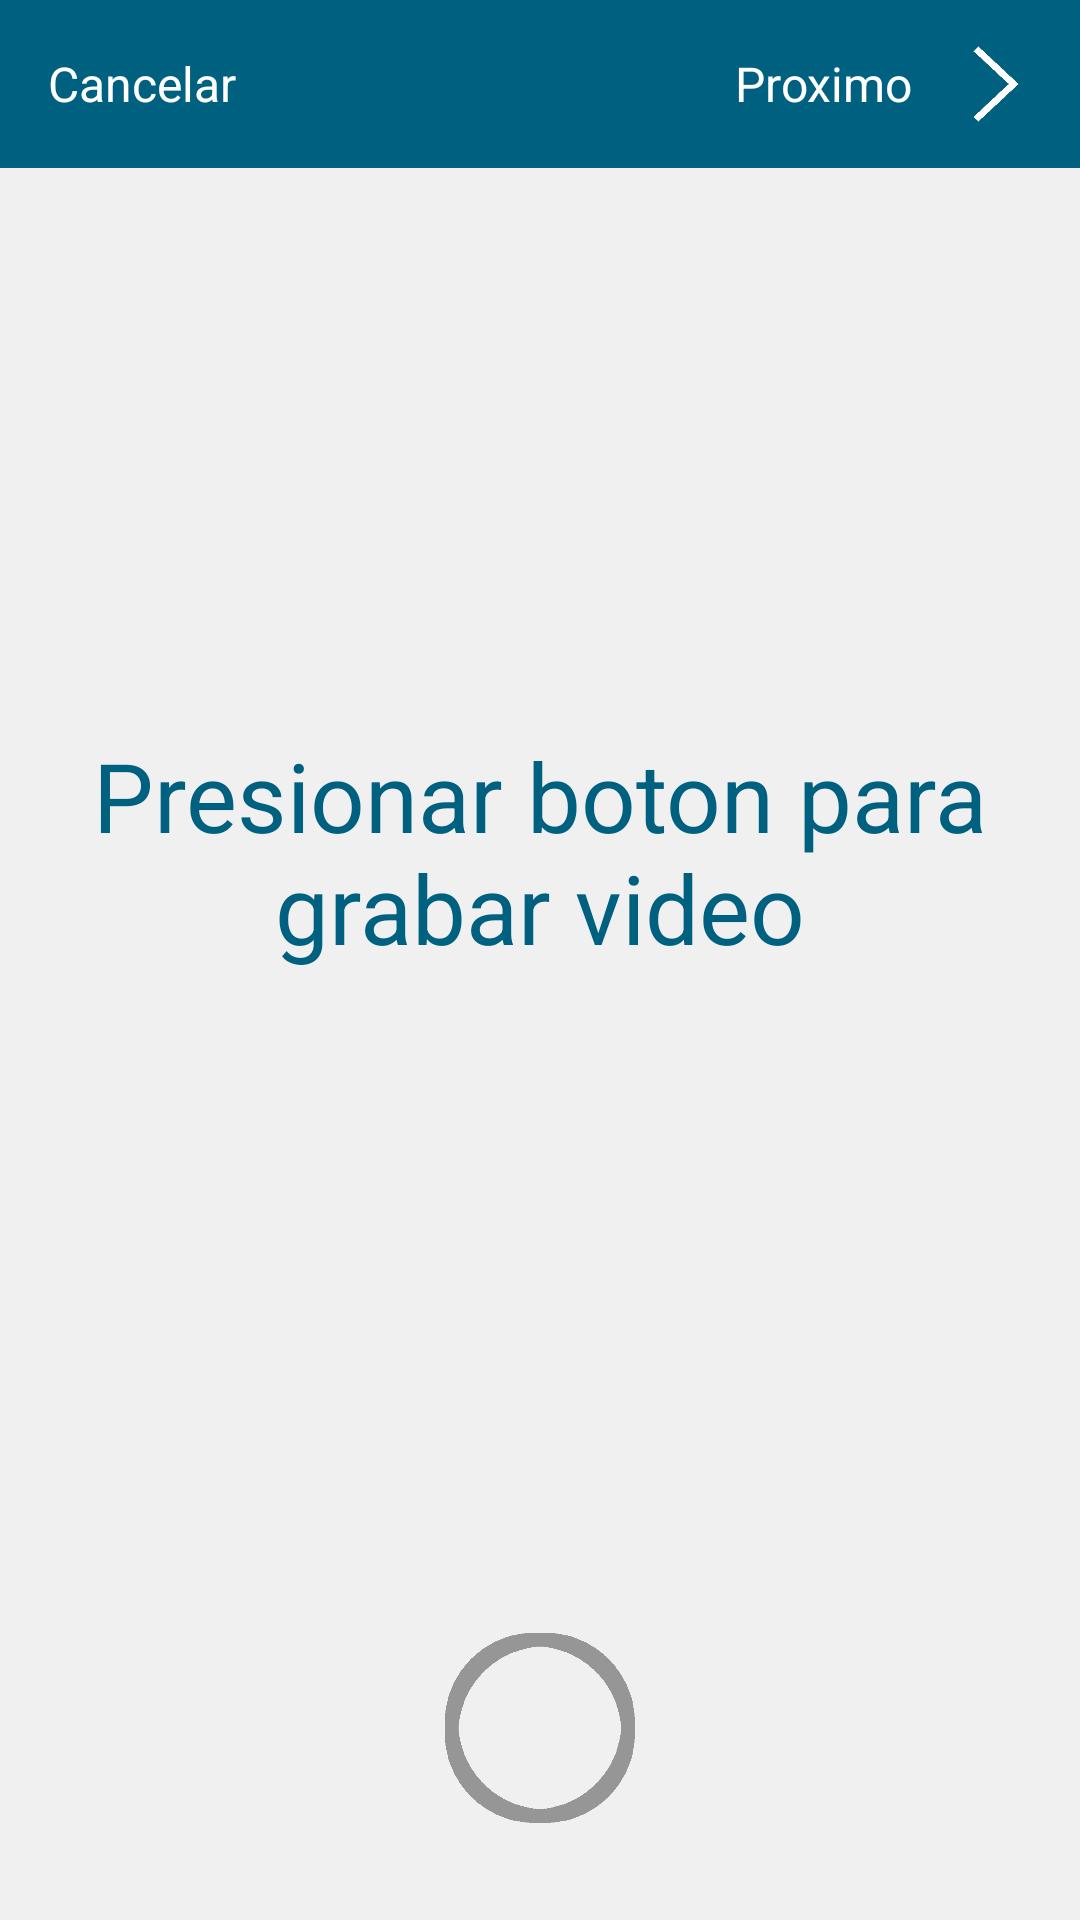

Locate icon controls on the screen. Image size 1080 × 1920, boxes as (x1, y1, x2, y2).
right arrow: (973, 46, 1019, 122)
